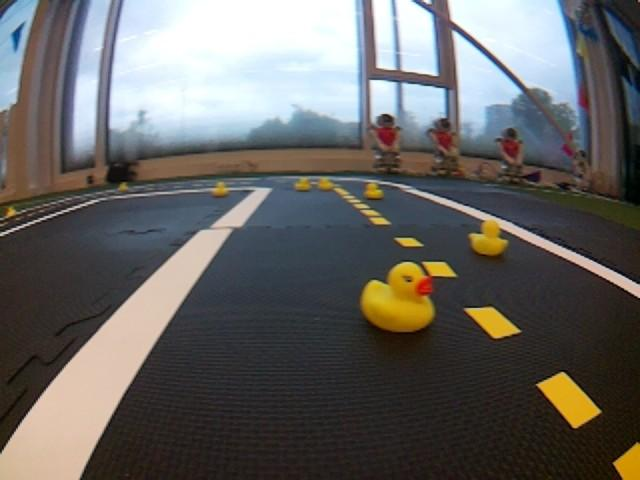Duckies: (359, 261, 438, 334), (468, 219, 509, 256), (363, 183, 384, 200), (293, 177, 313, 192), (213, 181, 229, 197), (318, 177, 333, 191), (6, 206, 16, 217), (120, 182, 128, 190)
